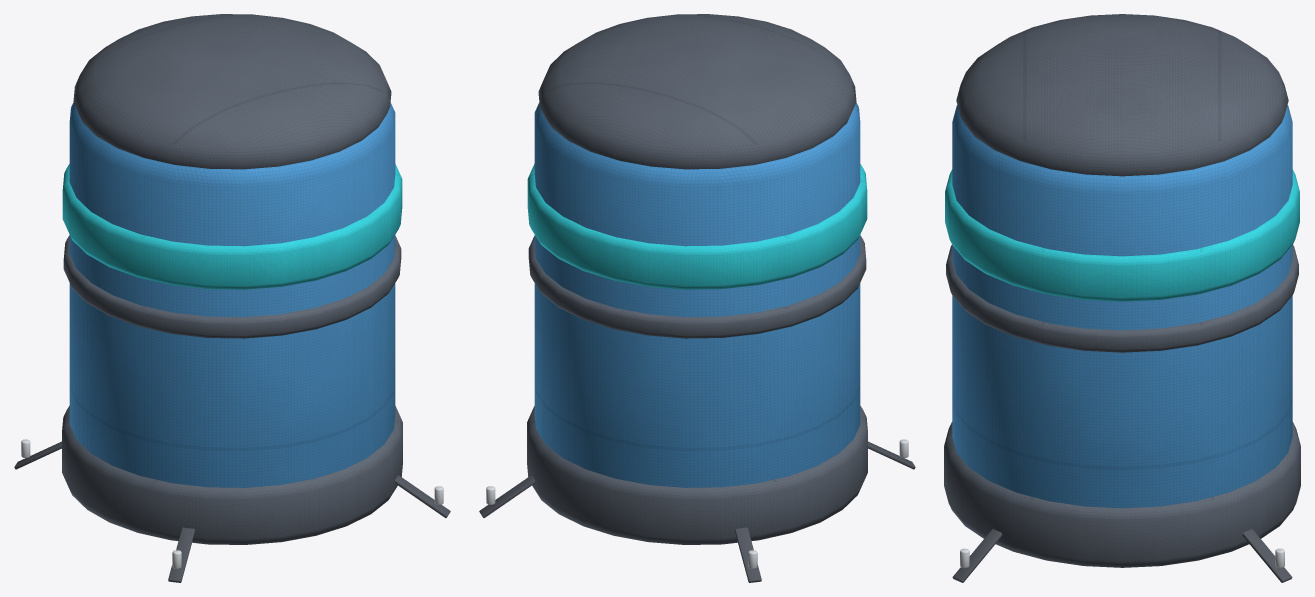
Rendered from bunker_cylinder_blue.glb.
3 renders of one model, left to right at view 1: azimuth 30°, elevation 25°; view 2: azimuth 150°, elevation 25°; view 3: azimuth 270°, elevation 25°, orthographic. The views are drawn at different scales.
Visible parts, largest first — view 1: CylBody, CylTopDome, CylBaseRing, CylBandUpper, CylBandLower, Strap_2, Strap_3; view 2: CylBody, CylTopDome, CylBaseRing, CylBandUpper, CylBandLower, Strap_1, Strap_0; view 3: CylBody, CylTopDome, CylBaseRing, CylBandUpper, CylBandLower, Strap_0, Strap_3.
Boxes of the visible parts, x1=… form: CylBody: x1=69, y1=102, x2=395, y2=487; CylTopDome: x1=73, y1=14, x2=391, y2=169; CylBaseRing: x1=62, y1=406, x2=402, y2=544; CylBandUpper: x1=62, y1=164, x2=402, y2=289; CylBandLower: x1=63, y1=235, x2=401, y2=338; Strap_2: x1=168, y1=527, x2=194, y2=582; Strap_3: x1=395, y1=475, x2=450, y2=517; CylBody: x1=534, y1=102, x2=860, y2=487; CylTopDome: x1=538, y1=14, x2=856, y2=169; CylBaseRing: x1=527, y1=406, x2=867, y2=544; CylBandUpper: x1=527, y1=164, x2=867, y2=289; CylBandLower: x1=528, y1=235, x2=866, y2=338; Strap_1: x1=735, y1=527, x2=761, y2=582; Strap_0: x1=479, y1=475, x2=534, y2=517; CylBody: x1=952, y1=105, x2=1292, y2=508; CylTopDome: x1=956, y1=14, x2=1288, y2=176; CylBaseRing: x1=944, y1=422, x2=1300, y2=567; CylBandUpper: x1=945, y1=169, x2=1299, y2=301; CylBandLower: x1=946, y1=245, x2=1298, y2=352; Strap_0: x1=1242, y1=529, x2=1292, y2=582; Strap_3: x1=952, y1=529, x2=1002, y2=582.
Size of the model in its own units: 1.76 by 2.52 by 1.76.
Materials: 5 (3 with a texture image).
